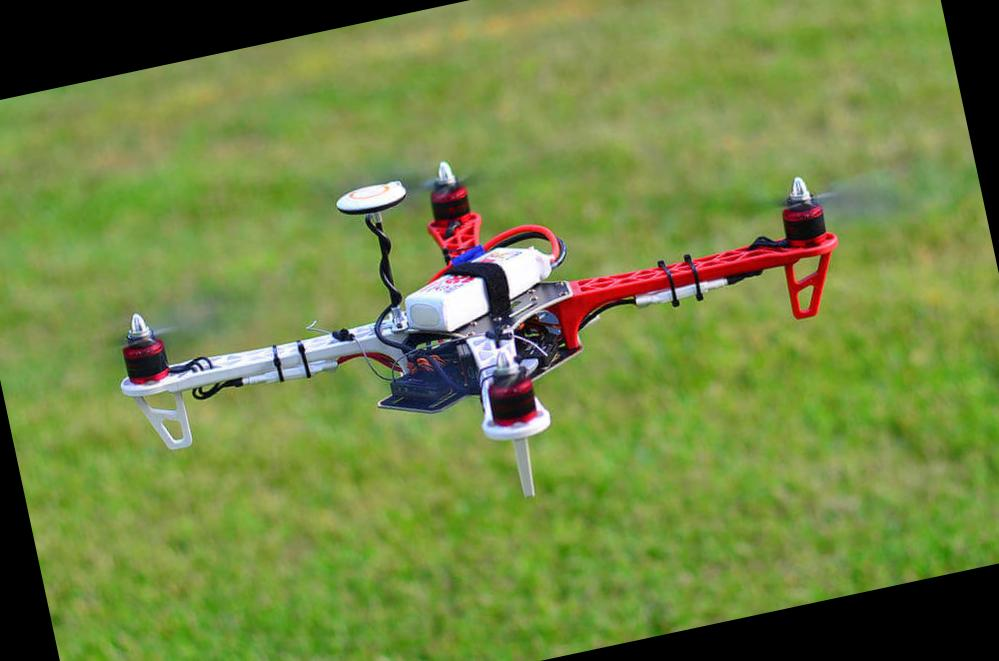drone: (66, 64, 909, 556)
